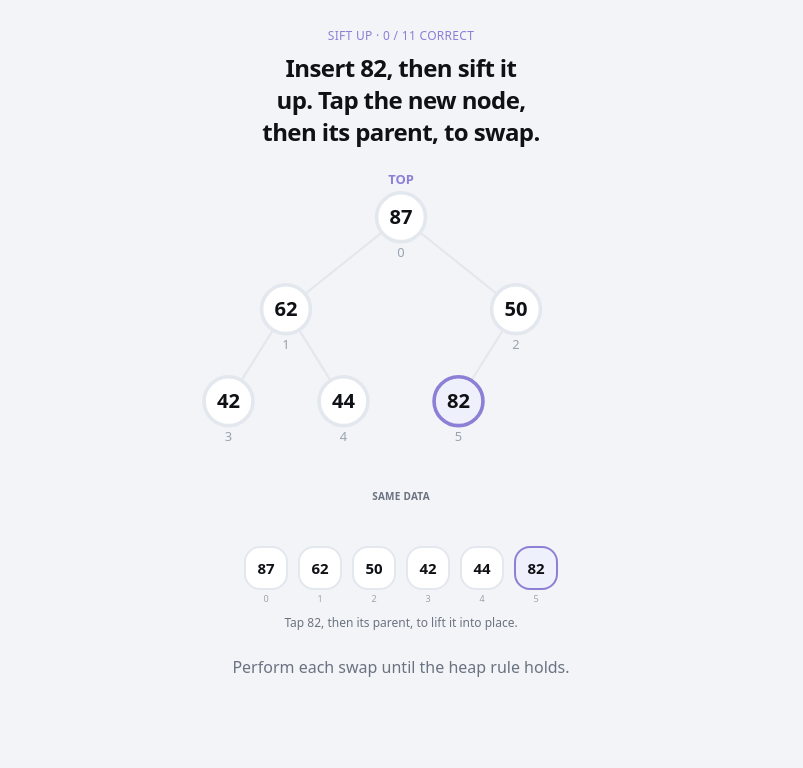
Test case: do-the-sift (active sift-up mechanic) › completing the sift clears the beat and offers Continue
Click the button "82": (536,568) [514,546,558,590]
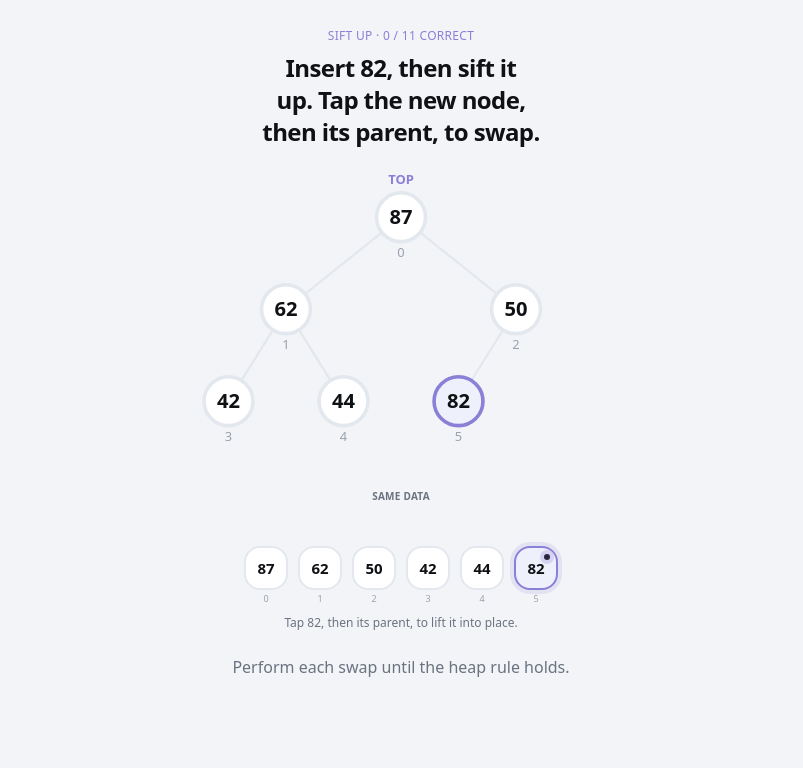
Click the button "50": (374,568) [352,546,396,590]
(page scrolled)
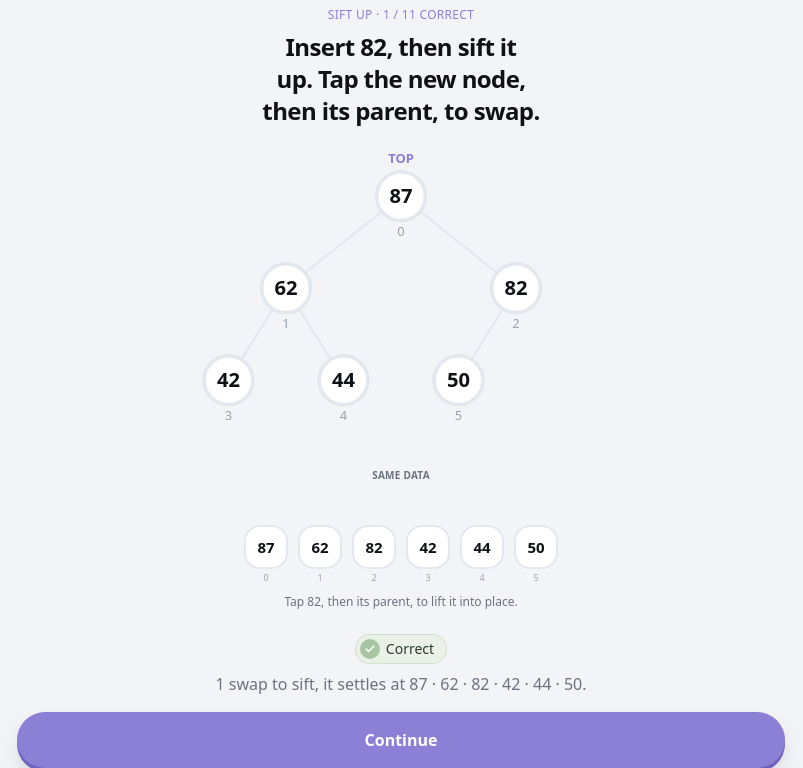
Result: the button "Continue" is shown at [17,712,785,767]
